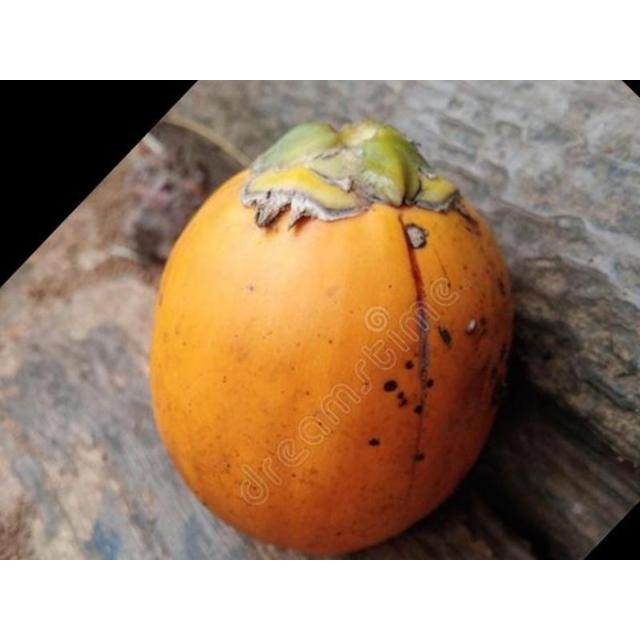good: (149, 120, 516, 559)
